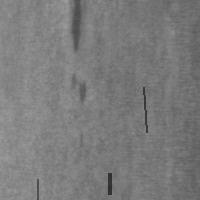inclusion: (64, 1, 84, 53), (66, 70, 89, 107), (141, 85, 148, 134), (34, 177, 39, 200), (107, 171, 111, 196)
